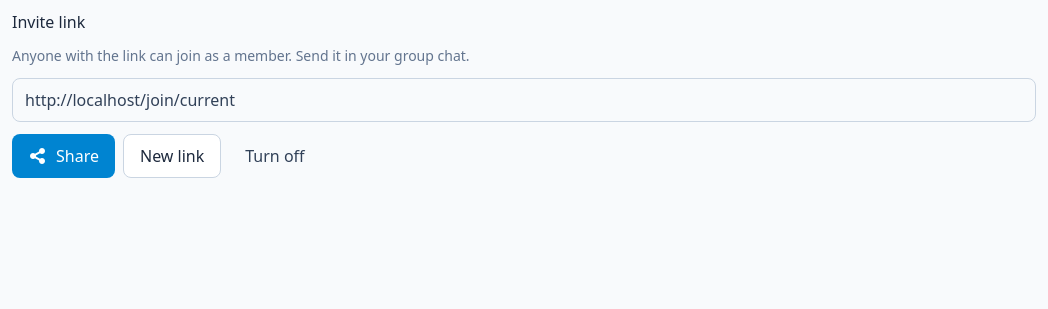
Test: InviteLinkCard › asks before turning it off, then warns about bringing the same link back
Click the button "Turn off" at (275, 156), box top-left (229, 134), bottom-right (321, 178)
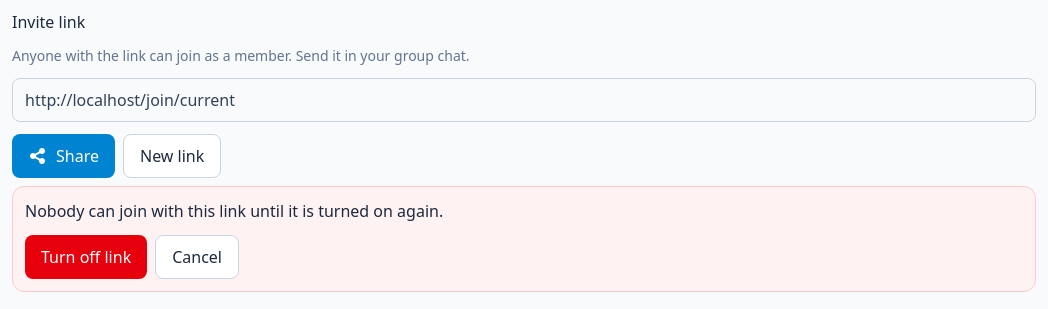
Click the button "Turn off link" at (86, 257), box top-left (25, 235), bottom-right (147, 279)
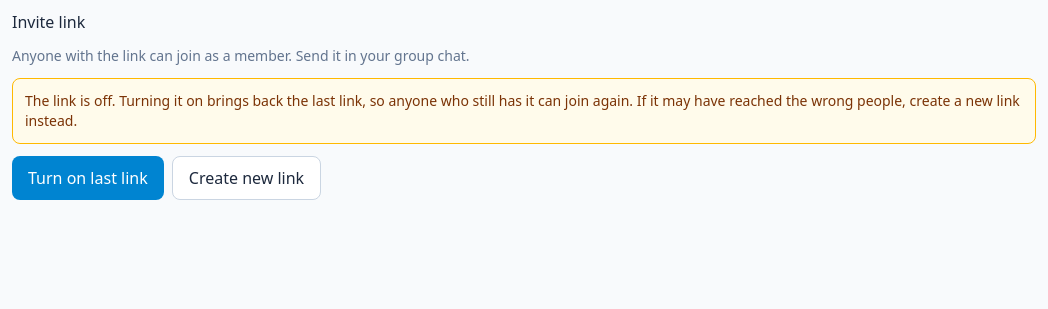
Check: the message shows "create a new link instead", box top-left (25, 91), bottom-right (1020, 130)
